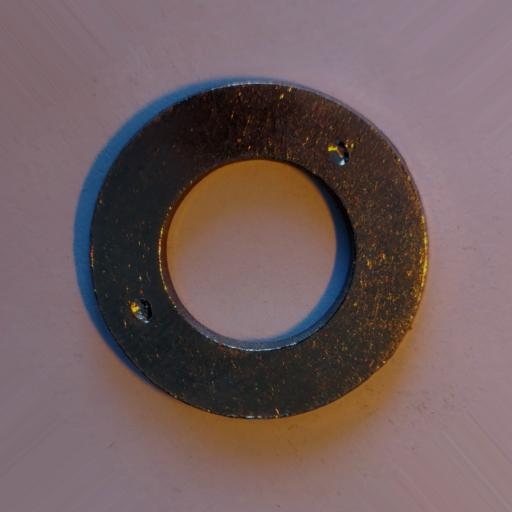circular_cavity: (129, 299, 153, 323), (328, 141, 350, 166)
